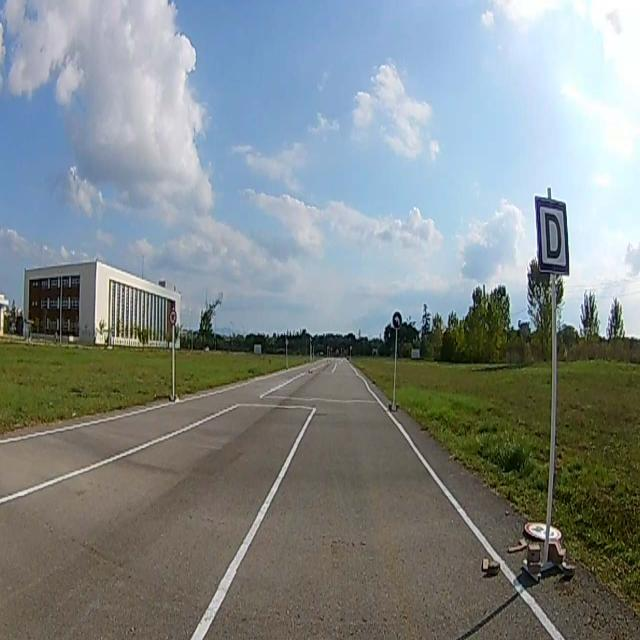durak: (537, 198, 569, 273)
sagadonulmez: (170, 311, 177, 325)
sol: (392, 312, 402, 328)
